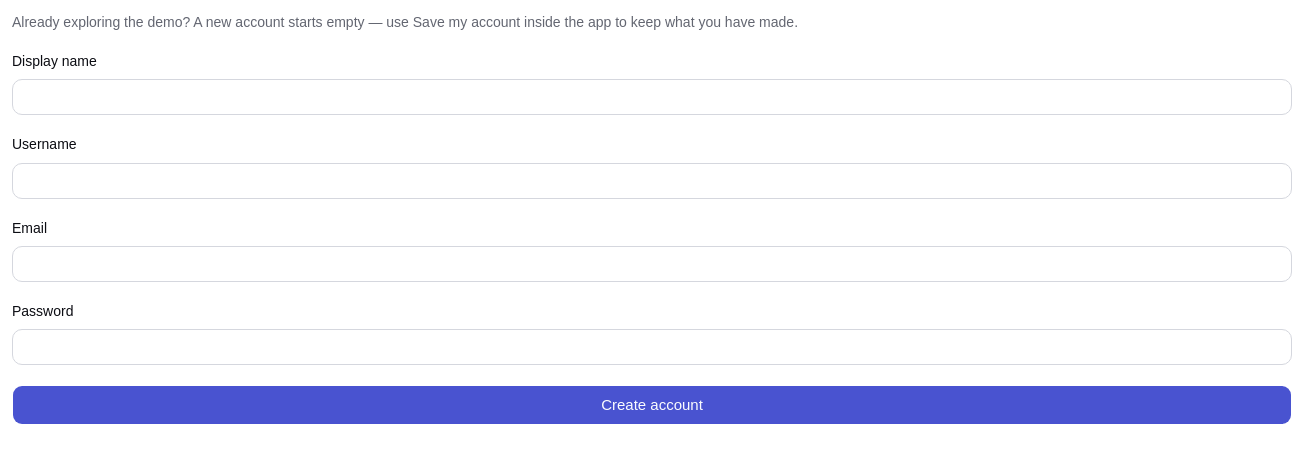
Test: SignUpForm › lands a taken email on the email field
Type "Ada Lovelace" into the field labelled "Display name" at (652, 97), box [12, 79, 1292, 115]
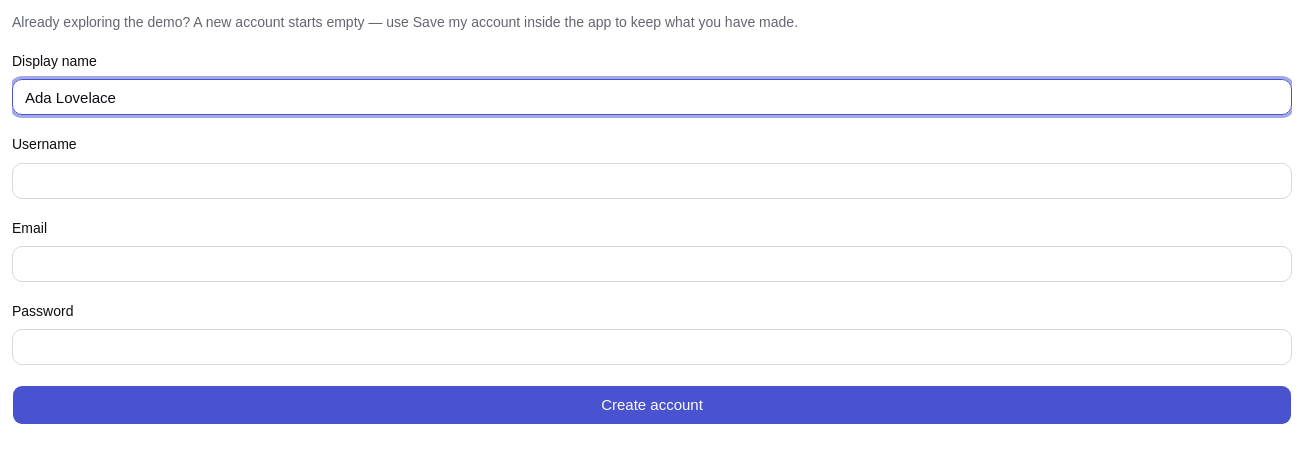
Type "ada" into the field labelled "Username" at (652, 180), box [12, 162, 1292, 198]
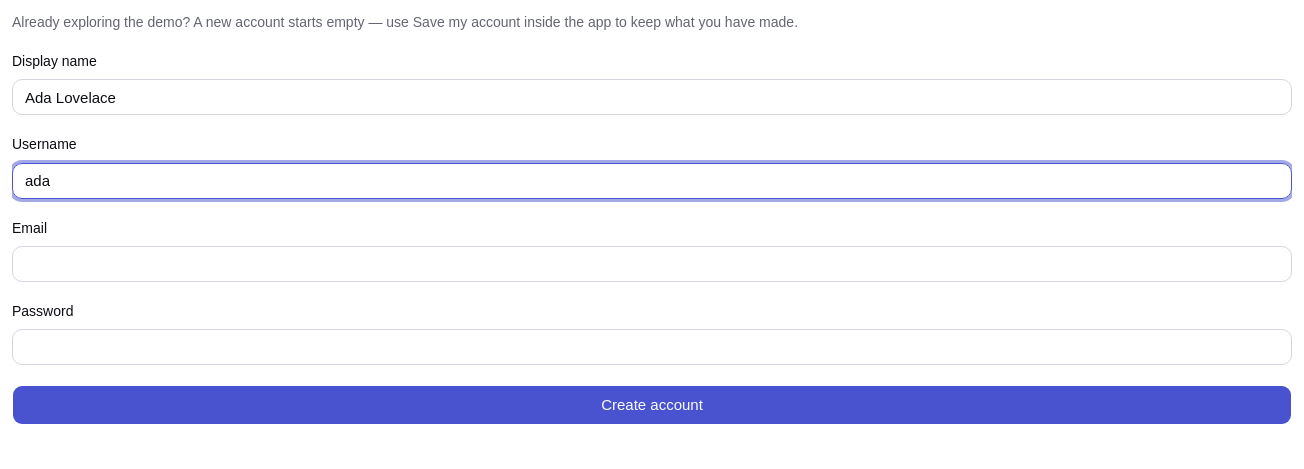
Type "ada@example.com" into the field labelled "Email" at (652, 264), box [12, 246, 1292, 282]
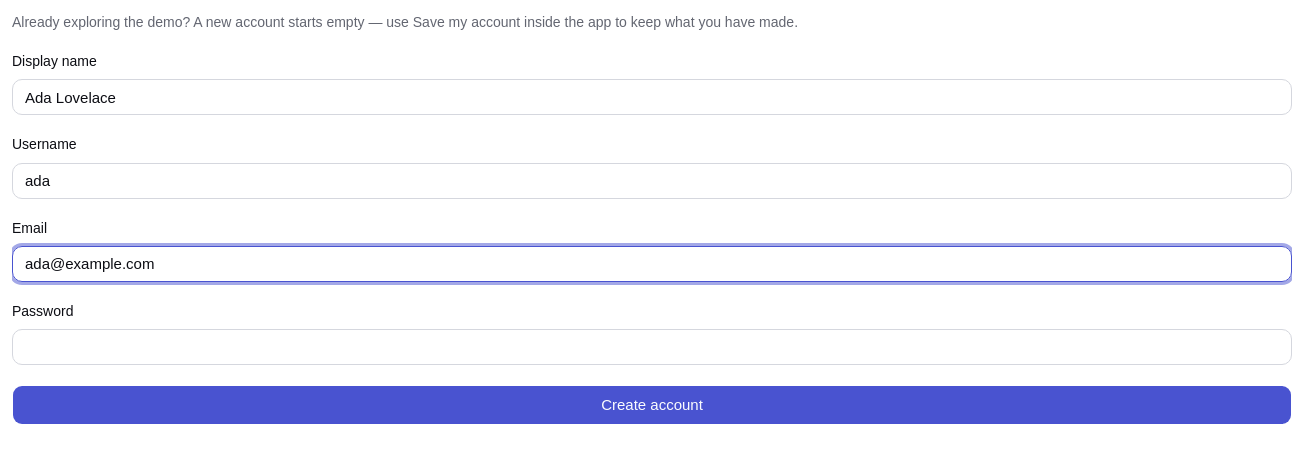
Type "correct horse battery" into the password field labelled "Password" at (652, 347), box [12, 329, 1292, 365]
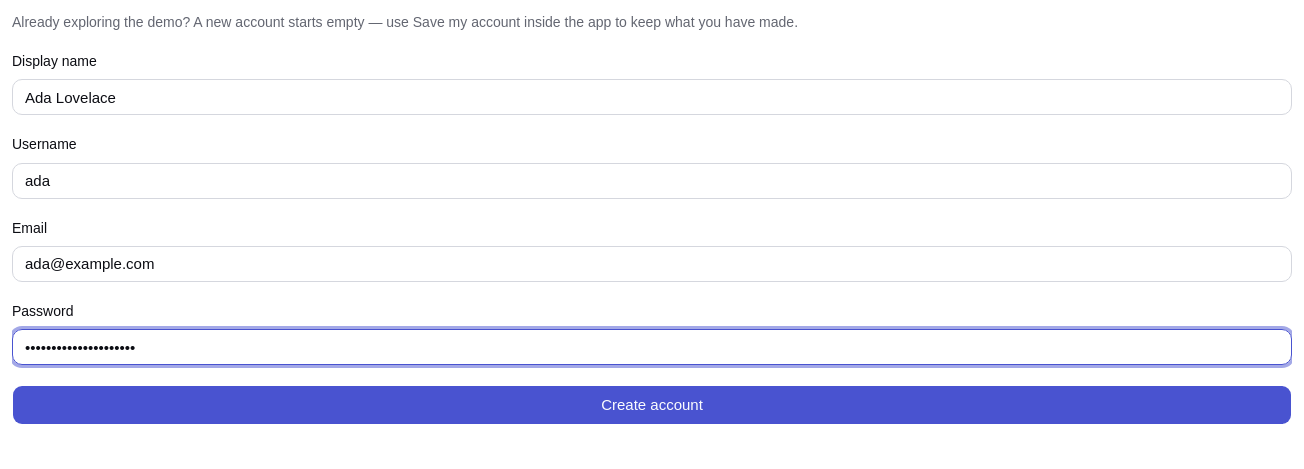
Click the button "Create account" at (652, 405), box [12, 385, 1292, 425]
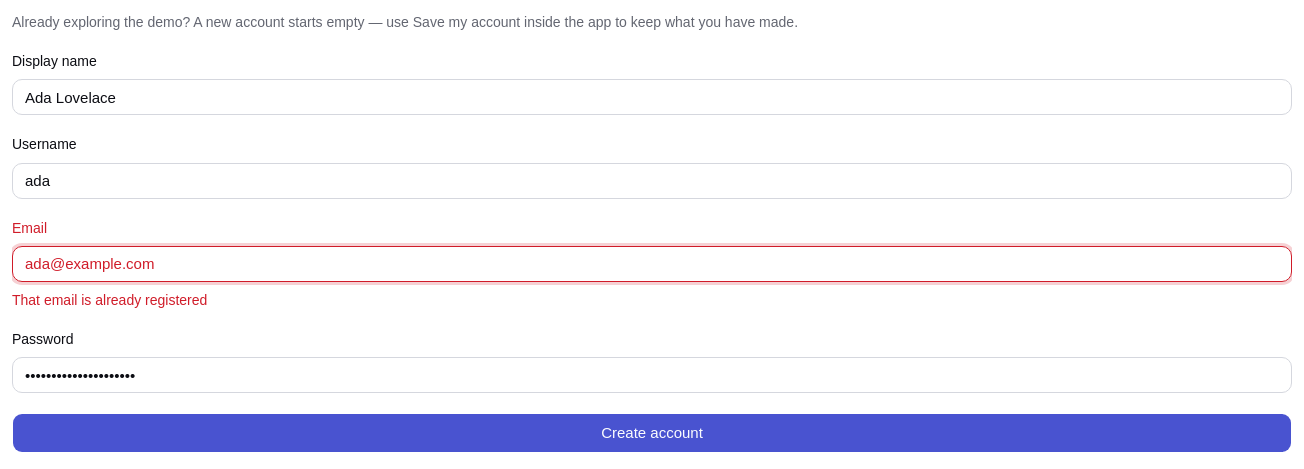
Result: the text "That email is already registered" is shown at [12, 292, 207, 308]
